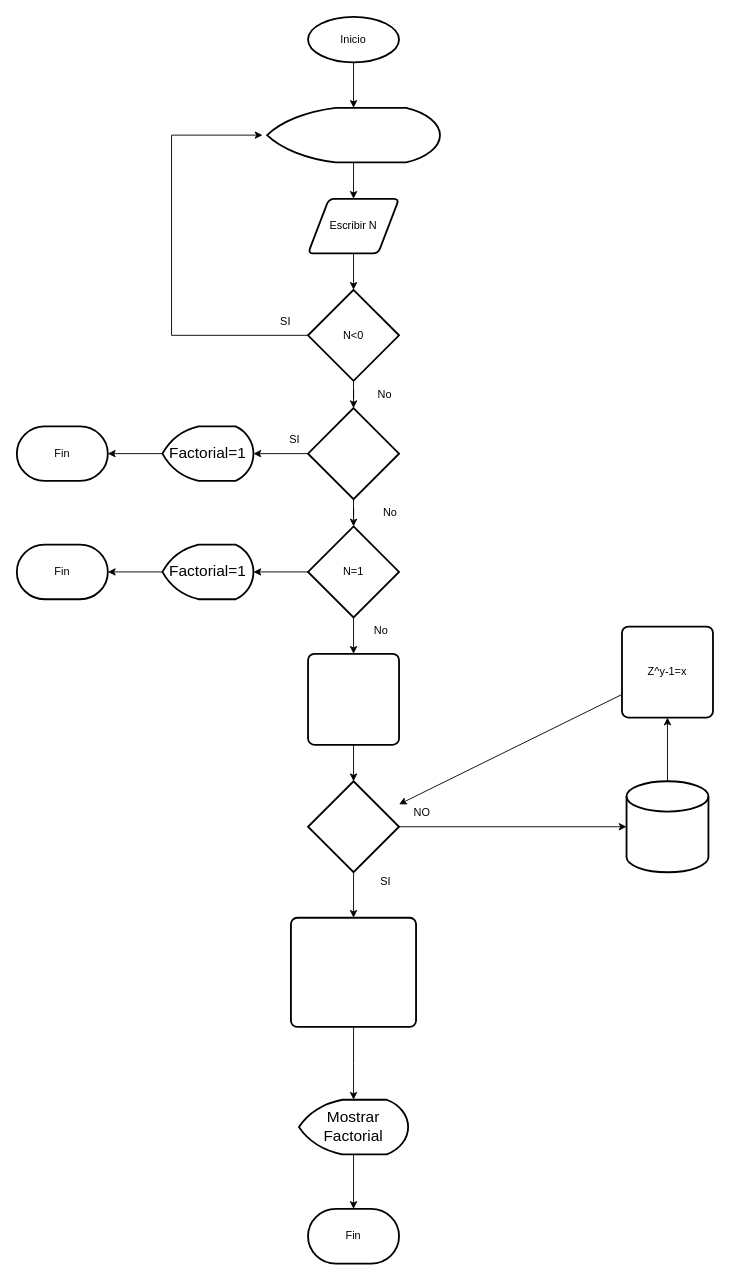
The diagram is 729 pixels wide and 1279 high, and some of its shapes have lost their labels. The shapes that lost their labels are listed below. From the top down, each one's centre as x and y in pixels, then its label:
(353,134): Escribe un numero porsitivo"N"
(353,453): N=0
(353,698): n-1=x
(353,826): x=1
(667,826): Guardo Z^y
(353,971): n*x*z^y=Factorial
